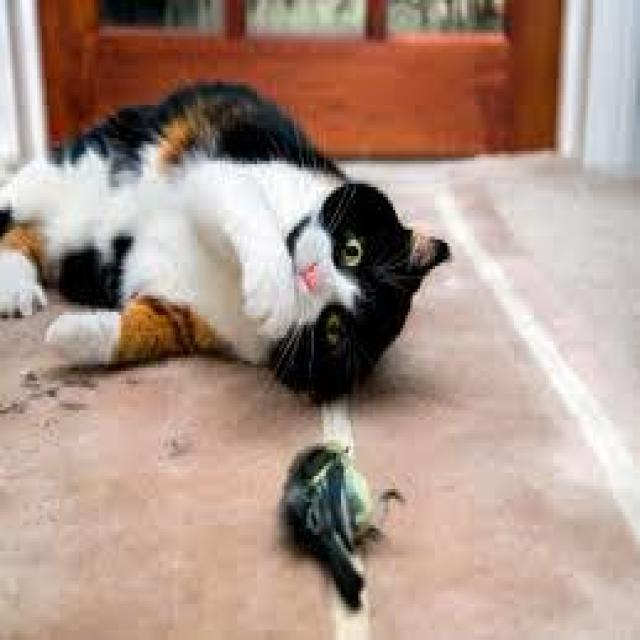Cat: (264, 174, 464, 403)
